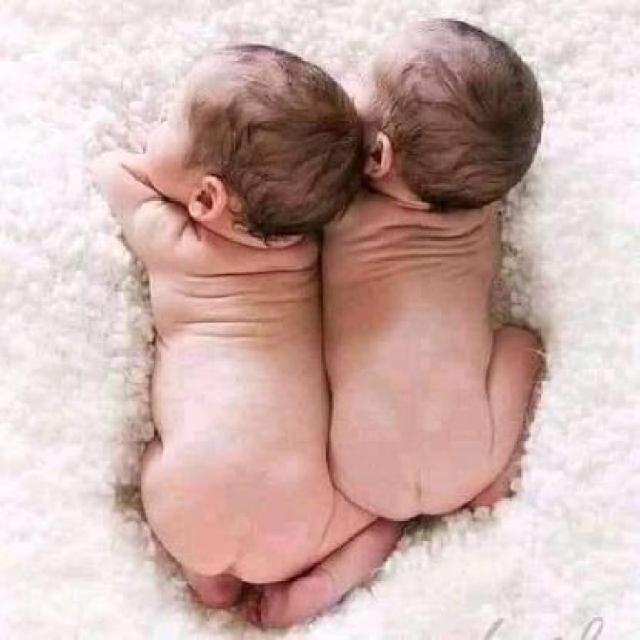baby: (93, 45, 404, 628), (322, 19, 546, 532)
